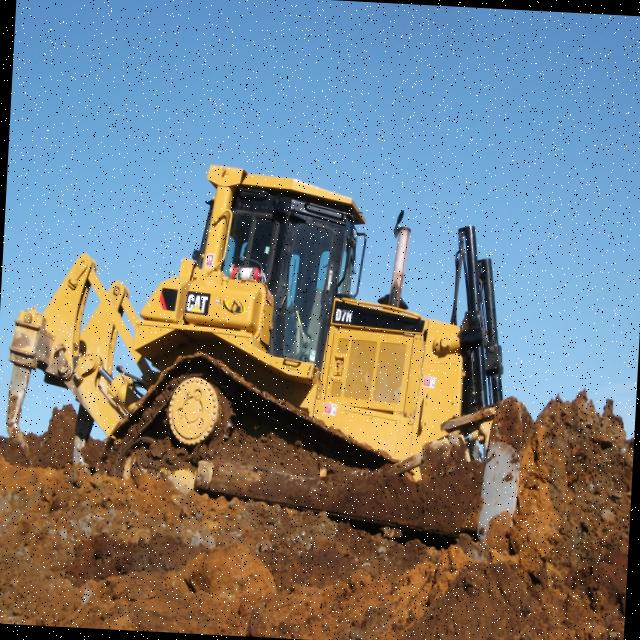Bulldozer: (5, 126, 590, 582)
